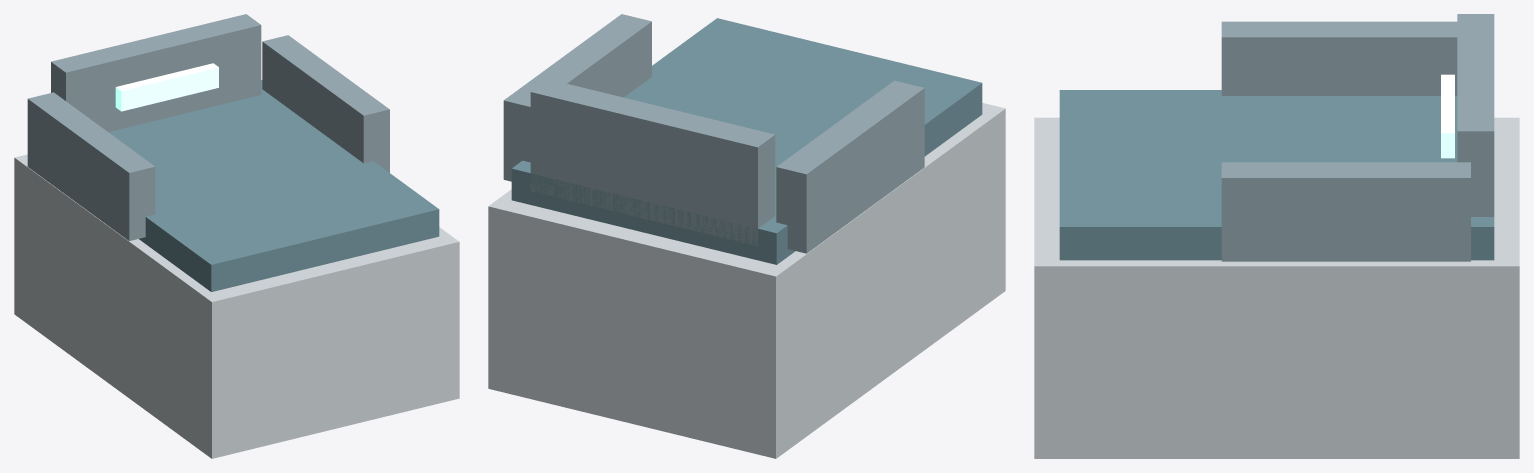
Rendered from xeno_vet_bed.glb.
3 renders of one model, left to right at view 1: azimuth 30°, elevation 25°; view 2: azimuth 150°, elevation 25°; view 3: azimuth 270°, elevation 25°, orthographic. The views are drawn at different scales.
Parts seen in each view (by area): view 1: ivory_0, pad_1, steel_4, steel_2, steel_3, green_5; view 2: ivory_0, pad_1, steel_4, steel_2, steel_3; view 3: ivory_0, pad_1, steel_3, steel_2, steel_4, green_5.
Boxes of the visible parts, <box> form: ivory_0: <box>14,154,459,458</box>; pad_1: <box>108,80,439,291</box>; steel_4: <box>51,14,261,131</box>; steel_2: <box>27,92,155,240</box>; steel_3: <box>262,35,389,172</box>; green_5: <box>115,63,218,111</box>; ivory_0: <box>488,103,1005,458</box>; pad_1: <box>511,18,982,264</box>; steel_4: <box>530,79,775,246</box>; steel_2: <box>776,80,924,253</box>; steel_3: <box>503,14,651,181</box>; ivory_0: <box>1034,117,1519,458</box>; pad_1: <box>1059,90,1494,260</box>; steel_3: <box>1221,162,1470,261</box>; steel_2: <box>1221,21,1457,95</box>; steel_4: <box>1457,14,1494,216</box>; green_5: <box>1441,74,1454,158</box>.
Bounding box in the file's own units: 0.8 × 0.745 × 1.05.
